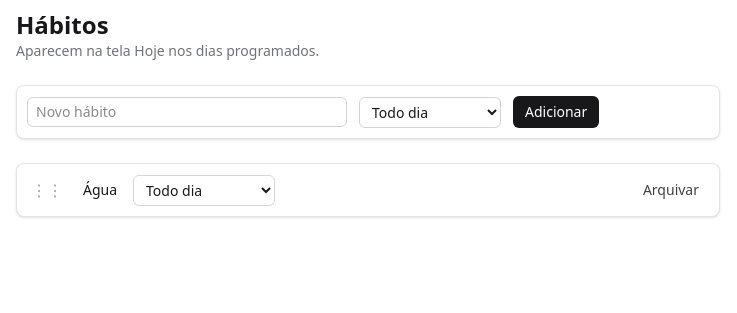
Test: HabitsView › renomeia, muda a programação e arquiva um hábito
The image size is (737, 313).
Click the button "Água".
click(100, 190)  # box [79, 180, 121, 200]
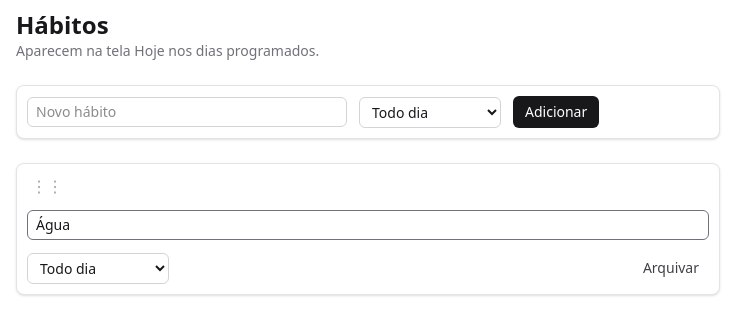
Replace the text in the field named "Nome do hábito" with "Beber água" at (368, 225), box [27, 210, 709, 240]
Then press Enter
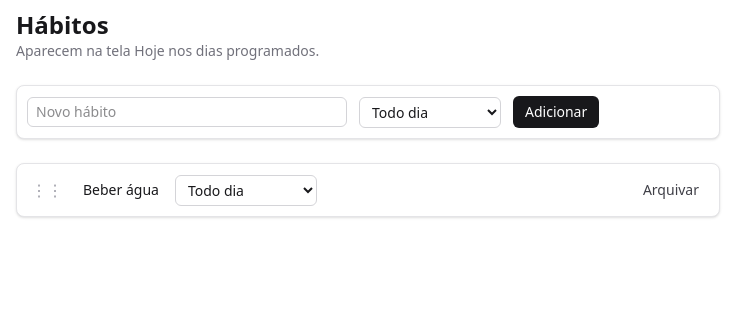
Select "Dias úteis" in the 2nd dropdown named "Programação" at (246, 190), box [175, 174, 317, 206]
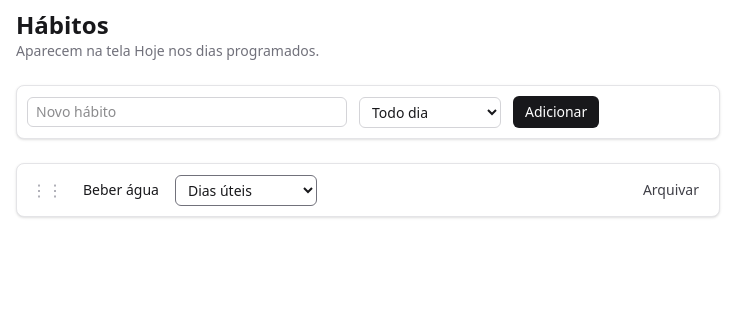
Click the button "Arquivar".
click(671, 190)  # box [633, 174, 709, 206]
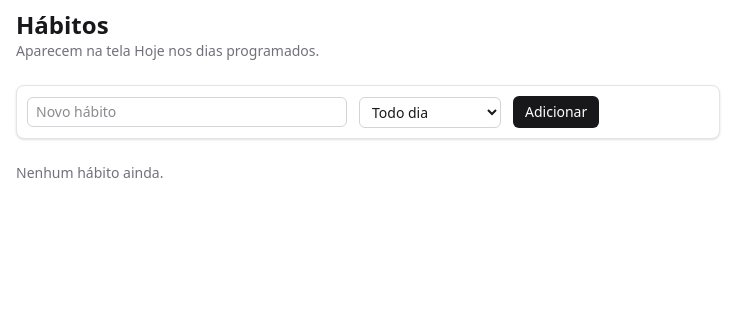
Now the text "Nenhum hábito ainda." is shown, box [16, 163, 164, 182]
